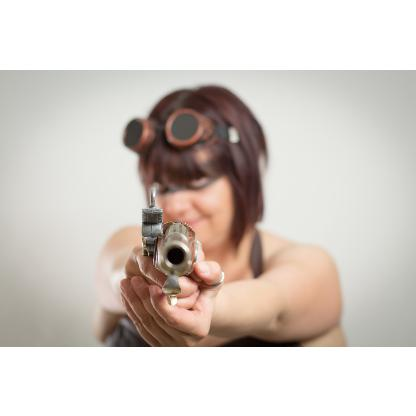gun: (142, 186, 198, 304)
